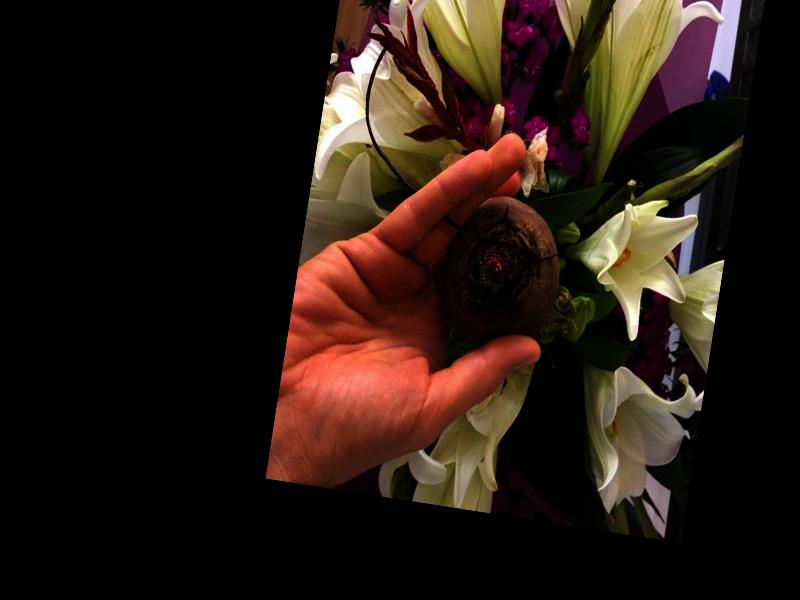Beet: (428, 185, 571, 352)
